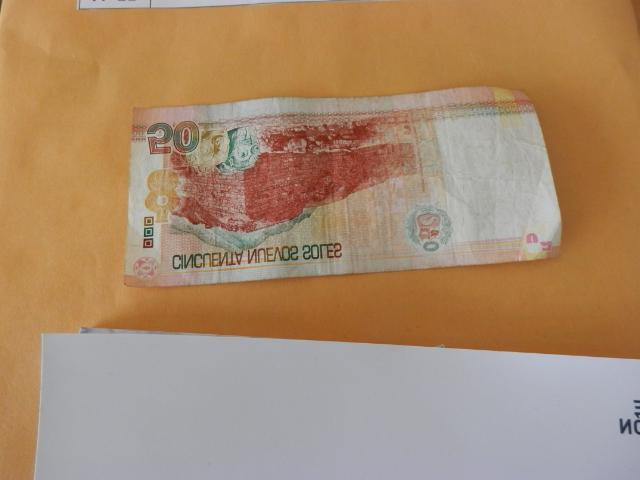B50: (124, 87, 564, 288)
